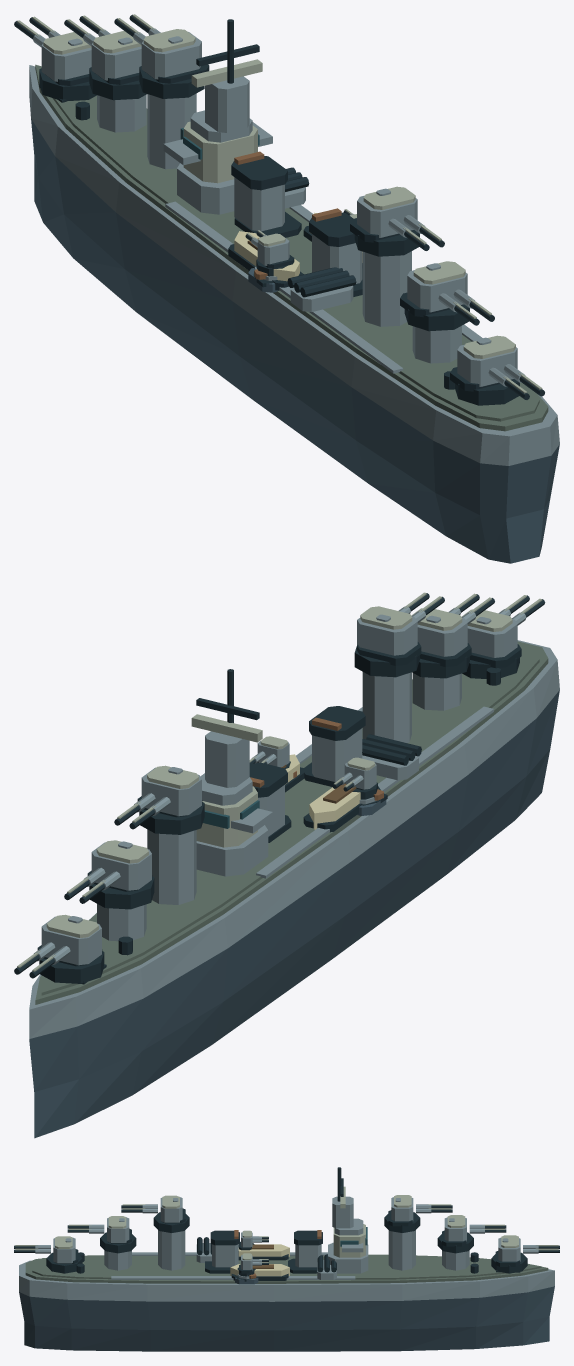
File: historic-oakland.glb
3 views of the same model, one above another, from view 1: azimuth 30°, elevation 25°; view 2: azimuth 150°, elevation 25°; view 3: azimuth 270°, elevation 25° (orthographic). The views are drawn at different scales.
Visible parts, largest first — view 1: historic-oakland-historic-oakland-geometry, historic-oakland-part_bridge.098-geometry, historic-oakland-turret_main_4.012-geometry, historic-oakland-turret_main_3.036-geometry, historic-oakland-turret_main_2.058-geometry, historic-oakland-turret_main_5.006-geometry, historic-oakland-historic_funnel_0.096-geometry, historic-oakland-turret_main_1.065-geometry, historic-oakland-turret_main_0.069-geometry, historic-oakland-historic_funnel_1.050-geometry, historic-oakland-torpedo_bank_0.026-geometry, historic-oakland-turret_aa_aa-port.100-geometry (+1 smaller); view 2: historic-oakland-historic-oakland-geometry, historic-oakland-part_bridge.098-geometry, historic-oakland-turret_main_3.036-geometry, historic-oakland-turret_main_1.065-geometry, historic-oakland-turret_main_0.069-geometry, historic-oakland-turret_main_2.058-geometry, historic-oakland-turret_main_4.012-geometry, historic-oakland-turret_main_5.006-geometry, historic-oakland-historic_funnel_1.050-geometry, historic-oakland-historic_funnel_0.096-geometry, historic-oakland-torpedo_bank_0.026-geometry, historic-oakland-turret_aa_aa-port.100-geometry (+1 smaller); view 3: historic-oakland-historic-oakland-geometry, historic-oakland-part_bridge.098-geometry, historic-oakland-turret_main_1.065-geometry, historic-oakland-turret_main_4.012-geometry, historic-oakland-turret_main_2.058-geometry, historic-oakland-turret_main_3.036-geometry, historic-oakland-turret_main_0.069-geometry, historic-oakland-turret_main_5.006-geometry, historic-oakland-historic_funnel_1.050-geometry, historic-oakland-historic_funnel_0.096-geometry, historic-oakland-torpedo_bank_1.023-geometry, historic-oakland-turret_aa_aa-starboard.096-geometry (+2 smaller).
Boxes of the visible parts, x1,y1,x2,y2 form: historic-oakland-historic-oakland-geometry: (29, 64, 559, 563); historic-oakland-part_bridge.098-geometry: (163, 19, 272, 214); historic-oakland-turret_main_4.012-geometry: (400, 261, 494, 331); historic-oakland-turret_main_3.036-geometry: (350, 186, 444, 256); historic-oakland-turret_main_2.058-geometry: (114, 14, 209, 98); historic-oakland-turret_main_5.006-geometry: (450, 335, 544, 405); historic-oakland-historic_funnel_0.096-geometry: (231, 151, 301, 237); historic-oakland-turret_main_1.065-geometry: (64, 15, 146, 100); historic-oakland-turret_main_0.069-geometry: (14, 16, 96, 101); historic-oakland-historic_funnel_1.050-geometry: (309, 208, 362, 296); historic-oakland-torpedo_bank_0.026-geometry: (287, 267, 356, 311); historic-oakland-turret_aa_aa-port.100-geometry: (245, 230, 294, 276); historic-oakland-historic-oakland-geometry: (29, 640, 559, 1138); historic-oakland-part_bridge.098-geometry: (191, 669, 272, 876); historic-oakland-turret_main_3.036-geometry: (354, 592, 444, 677); historic-oakland-turret_main_1.065-geometry: (64, 840, 154, 909); historic-oakland-turret_main_0.069-geometry: (14, 914, 104, 983); historic-oakland-turret_main_2.058-geometry: (114, 765, 204, 834); historic-oakland-turret_main_4.012-geometry: (411, 593, 494, 678); historic-oakland-turret_main_5.006-geometry: (461, 595, 545, 678); historic-oakland-historic_funnel_1.050-geometry: (302, 706, 365, 786); historic-oakland-historic_funnel_0.096-geometry: (249, 762, 291, 842); historic-oakland-torpedo_bank_0.026-geometry: (362, 734, 421, 780); historic-oakland-turret_aa_aa-port.100-geometry: (332, 757, 377, 799); historic-oakland-historic-oakland-geometry: (19, 1230, 554, 1351); historic-oakland-part_bridge.098-geometry: (328, 1167, 368, 1273); historic-oakland-turret_main_1.065-geometry: (437, 1215, 506, 1253); historic-oakland-turret_main_4.012-geometry: (67, 1216, 136, 1253); historic-oakland-turret_main_2.058-geometry: (384, 1195, 452, 1232); historic-oakland-turret_main_3.036-geometry: (121, 1195, 189, 1232); historic-oakland-turret_main_0.069-geometry: (491, 1235, 559, 1273); historic-oakland-turret_main_5.006-geometry: (14, 1236, 82, 1273); historic-oakland-historic_funnel_1.050-geometry: (205, 1230, 239, 1273); historic-oakland-historic_funnel_0.096-geometry: (288, 1230, 322, 1273); historic-oakland-torpedo_bank_1.023-geometry: (317, 1254, 336, 1279); historic-oakland-turret_aa_aa-starboard.096-geometry: (237, 1253, 268, 1276).
Size of the model in its own units: 0.6272 by 1.54 by 4.4.
